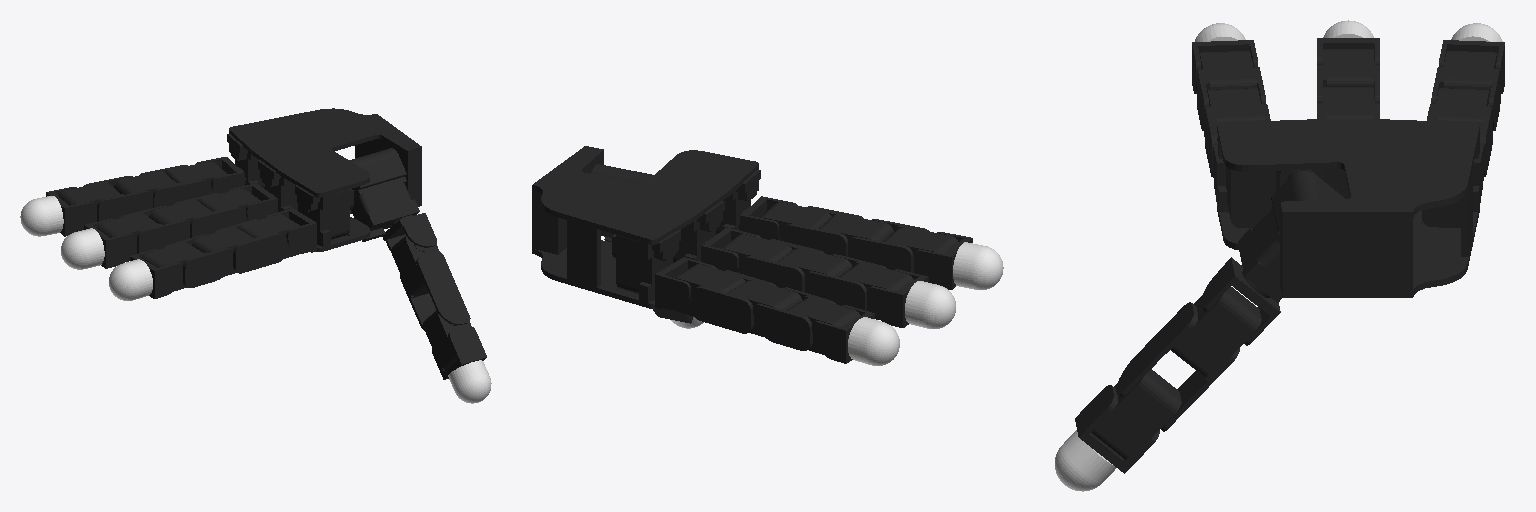
robot.urdf — pallegro:
<?xml version="1.0" encoding="utf-8" ?>
<robot name="pallegro">
	<!-- Panda link 0 -->
    <link name="panda_link0">
        <visual>
            <geometry>
                <mesh filename="franka/Franka_Link0_assy OBJ/Franka_Link0_assy.obj" />
				<!--<mesh filename="asset/panda/link0.stl" />-->
            </geometry>
        </visual>
        <inertial>
            <origin rpy="0 0 0" xyz="0 0 0" />
            <mass value="2.9411" />
			<inertia ixx="0.00315" ixy="0.0" ixz="0.0" iyy="0.00388" iyz="0.0" izz="0.004285" />
        </inertial>
    </link>
    <!-- Joint 1 from link 0 to 1 -->
    <joint name="panda_joint1" type="revolute">
        <origin rpy="0 0 0" xyz="0 0 0.333" />
        <parent link="panda_link0" />
        <child link="panda_link1" />
        <axis xyz="0 0 1" />
        <limit effort="87" lower="-2.8973" upper="2.8973" velocity="2.1750" />
        <dynamics damping="1.0" friction="10" />
    </joint>
    <!-- Panda link 1 -->
    <link name="panda_link1">
        <visual>
            <geometry>
                <mesh filename="franka/Franka_Link1_assy OBJ/Franka_Link1_assy.obj" />
				<!--<mesh filename="asset/panda/link1.stl" />-->
            </geometry>
        </visual>
        <inertial>
            <origin rpy="0 0 0" xyz="0.003875 0.002081 -0.04762" />
            <mass value="4.970684" />
			<inertia ixx="0.70337" ixy="0" ixz="0" iyy="0.70661" iyz="0" izz="0.0091170" />
        </inertial>
    </link>
    <!-- Joint 2 from link 1 to 2 -->
    <joint name="panda_joint2" type="revolute">
        <origin rpy="-1.57079632679 0 0" xyz="0 0 0" />
        <parent link="panda_link1" />
        <child link="panda_link2" />
        <axis xyz="0 0 1" />
        <limit effort="87" lower="-1.7628" upper="1.7628" velocity="2.1750" />
        <dynamics damping="1.0" />
    </joint>
    <!-- Panda link 2 -->
    <link name="panda_link2">
        <visual>
            <geometry>
                <mesh filename="franka/Franka_Link2_assy OBJ/Franka_Link2_assy.obj" />
				<!--<mesh filename="asset/panda/link2.stl" />-->
            </geometry>
        </visual>
        <inertial>
            <origin rpy="0 0 0" xyz="-0.003141 -0.02872 0.003495" />
            <mass value="0.646926" />
            <inertia ixx="0.0079620" ixy="0.0" ixz="0.0" iyy="0.02811" iyz="0.0" izz="0.025995" />
        </inertial>
    </link>
    <!-- Joint 3 from link 2 to 3 -->
    <joint name="panda_joint3" type="revolute">
        <origin rpy="1.57079632679 0 0" xyz="0 -0.316 0" />
        <parent link="panda_link2" />
        <child link="panda_link3" />
        <axis xyz="0 0 1" />
        <limit effort="87" lower="-2.8973" upper="2.8973" velocity="2.1750" />
        <dynamics damping="1.0" />
    </joint>
    <!-- Panda link 3 -->
    <link name="panda_link3">
        <visual>
            <geometry>
                <mesh filename="franka/Franka_Link3_assy OBJ/Franka_Link3_assy.obj" />
				<!--<mesh filename="asset/panda/link3.stl" />-->
			</geometry>
        </visual>
        <inertial>
            <origin rpy="0 0 0" xyz="2.7518e-2 3.9252e-2 -6.6502e-2" />
            <mass value="3.228604" />
			<inertia ixx="0.037242" ixy="0.0" ixz="0.0" iyy="0.036155" iyz="0.0" izz="0.01083" />
        </inertial>
    </link>
    <!-- Joint 4 from link 3 to 4 -->
    <joint name="panda_joint4" type="revolute">
        <origin rpy="1.57079632679 0 0" xyz="0.0825 0 0" />
        <parent link="panda_link3" />
        <child link="panda_link4" />
        <axis xyz="0 0 1" />
        <limit effort="87" lower="-3.0718" upper="-0.0698" velocity="2.1750" />
        <dynamics damping="1.0" />
    </joint>
    <!-- Panda link 4 -->
    <link name="panda_link4">
        <visual>
            <geometry>
                <mesh filename="franka/Franka_Link4_assy OBJ/Franka_Link4_assy.obj" />
				<!--<mesh filename="asset/panda/link4.stl" />-->
            </geometry>
        </visual>
        <inertial>
			<origin rpy="0 0 0" xyz="-5.317e-2 1.04419e-1 2.7454e-2" />
            <mass value="3.587895" />
            <inertia ixx="2.5853e-2" ixy="0.0" ixz="0.0" iyy="1.9552e-2" iyz="0.0" izz="8.627e-3" />
        </inertial>
    </link>
    <!-- Joint 5 from link 4 to 5 -->
    <joint name="panda_joint5" type="revolute">
        <origin rpy="-1.57079632679 0 0" xyz="-0.0825 0.384 0" />
        <parent link="panda_link4" />
        <child link="panda_link5" />
        <axis xyz="0 0 1" />
        <limit effort="12" lower="-2.8973" upper="2.8973" velocity="2.6100" />
        <dynamics damping="1.0" />
    </joint>
    <!-- Panda link 5 -->
    <link name="panda_link5">
        <visual>
            <geometry>
				<mesh filename="franka/Franka_Link5_assy OBJ/Franka_Link5_assy.obj" />
				<!--<mesh filename="asset/panda/link5.stl" />-->
            </geometry>
        </visual>
        <inertial>
            <origin rpy="0 0 0" xyz="-1.1953e-2 4.1065e-2 -3.8437e-2" />
            <mass value="1.225946" />
            <inertia ixx="3.5549e-2" ixy="0.0" ixz="0.0" iyy="2.9474e-2" iyz="0.0" izz="8.627e-3" />
        </inertial>
    </link>
    <!-- Joint 6 from link 5 to 6 -->
    <joint name="panda_joint6" type="revolute">
        <origin rpy="1.57079632679 0 0" xyz="0 0 0" />
        <parent link="panda_link5" />
        <child link="panda_link6" />
        <axis xyz="0 0 1" />
        <limit effort="12" lower="-0.0175" upper="3.7525" velocity="2.6100" />
        <dynamics damping="1.0" />
    </joint>
    <!-- Panda link 6 -->
    <link name="panda_link6">
        <visual>
            <geometry>
                <mesh filename="franka/Franka_Link6_assy OBJ/Franka_Link6_assy.obj" />
				<!--<mesh filename="asset/panda/link6.stl" />-->
            </geometry>
        </visual>
		<inertial>
			<origin rpy="0 0 0" xyz="6.0149e-2 -1.4117e-2 -1.0517e-2" />
			<mass value="1.666555" />
			<inertia ixx="1.964e-3" ixy="0.0" ixz="0.0" iyy="4.354e-3" iyz="0.0" izz="5.433e-3" />
		</inertial>
    </link>
    <!-- Joint 7 from link 6 to 7 -->
    <joint name="panda_joint7" type="revolute">
        <origin rpy="1.57079632679 0 0" xyz="0.088 0 0" />
        <parent link="panda_link6" />
        <child link="panda_link7" />
        <axis xyz="0 0 1" />
        <limit effort="12" lower="-2.8973" upper="2.8973" velocity="2.6100" />
        <dynamics damping="1.0" />
    </joint>
    <!-- Panda link 7 -->
    <link name="panda_link7">
        <visual>
			<origin rpy="0 0 0" xyz="0 0 0" />
            <geometry>
                <mesh filename="franka/Franka_Link7_assy OBJ/Franka_Link7_assy.obj" />
				<!--<mesh filename="asset/panda/link7.stl" />-->
				<!--<box size="0.08 0.08 0.08"/>-->
            </geometry>
        </visual>
        <inertial>
            <origin rpy="0 0 0" xyz="1.0517e-2 -4.252e-3 6.1597e-2" />
            <mass value="7.35522e-01" />
            <inertia ixx="1.2516e-2" ixy="0.0" ixz="0.0" iyy="1.0027e-2" iyz="0.0" izz="4.815e-3" />
        </inertial>
    </link>
	<!-- Fixed joint from link 7 to allegro palm -->
	<joint name="panda_joint7" type="fixed">
		<origin rpy="0 0 0" xyz="0 0 0.202" />
		<parent link="panda_link7" />
		<child link="allegro_palm" />
		<axis xyz="0 0 1" />
	</joint>
	<!--Allegro Palm-->
	<link name="allegro_palm">
		<visual>
			<origin rpy="0 0 0" xyz="0 0 0" />
			<geometry>
				<mesh filename="../allegro/base_link.obj" />
			</geometry>
			<material name="black">
				<color rgba="0.2 0.2 0.2 1"/>
			</material>
		</visual>
		<collision>
			<origin rpy="0 0 0" xyz="-0.009300 0 -0.0475"/>
			<geometry>
				<box size="0.0408 0.1130 0.095"/>
			</geometry>
		</collision>
		<inertial>
			<origin rpy="0 0 0" xyz="0 0 0"/>
			<mass value="0.4154"/>
			<inertia ixx="0.00208916" ixy="-3.63457e-06" ixz="0.000223277" iyy="0.00182848" iyz="-1.75634e-05" izz="0.000482459"/>
		</inertial>
	</link>
	<link name="allegro_link0">
		<visual>
			<geometry>
				<mesh filename="../allegro/link_0.0.obj"/>
			</geometry>
			<material name="black"/>
		</visual>
		<!--
		<collision>
			<geometry>
				<box size="0.0196 0.0275 0.0164"/>
			</geometry>
			<origin rpy="0 0 0" xyz="0 0 0.0082"/>
		</collision>
		-->
		<inertial>
			<mass value="0.0119"/>
			<origin rpy="0 0 0" xyz="0 0 0"/>
			<inertia ixx="1.95377e-06" ixy="3.03372e-09" ixz="8.92323e-08" iyy="1.17908e-06" iyz="-3.7069e-08" izz="1.49673e-06"/>
		</inertial>
	</link>
	<joint name="allegro_joint0" type="revolute">
		<axis xyz="0 0 1"/>
		<limit effort="0.7" lower="-0.47" upper="0.47" velocity="7"/>
		<parent link="allegro_palm"/>
		<child link="allegro_link0"/>
		<origin rpy="-0.08726646255 0 0" xyz="0 0.0435 -0.001542"/>
		<dynamics damping="1.5e-2" friction="10"/>
	</joint>
	<link name="allegro_link1">
		<visual>
			<geometry>
			<mesh filename="../allegro/link_1.0.obj"/>
			</geometry>
			<material name="black"/>
		</visual>
		<collision>
			<geometry>
			<box size="0.0196 0.0275 0.054"/>
			</geometry>
			<origin rpy="0 0 0" xyz="0 0 0.027"/>
		</collision>
		<inertial>
			<mass value="0.065"/>
			<origin rpy="0 0 0" xyz="0 0 0"/>
			<inertia ixx="7.19218e-05" ixy="0" ixz="0" iyy="7.4377e-05" iyz="7.32186e-07" izz="5.40622e-06"/>
		</inertial>
	</link>
	<joint name="allegro_joint1" type="revolute">
		<limit effort="0.7" lower="-0.196" upper="1.61" velocity="7"/>
		<axis xyz="0 1 0"/>
		<parent link="allegro_link0"/>
		<child link="allegro_link1"/>
		<origin xyz="0 0 0.0164"/>
		<dynamics damping="1.5e-2" friction="5"/>
	</joint>
	<link name="allegro_link2">
		<visual>
			<geometry>
				<mesh filename="../allegro/link_2.0.obj"/>
			</geometry>
			<material name="black"/>
		</visual>
		<collision>
			<geometry>
				<box size="0.0196 0.0275 0.0384"/>
			</geometry>
			<origin rpy="0 0 0" xyz="0 0 0.0192"/>
		</collision>
		<inertial>
			<mass value="0.0355"/>
			<origin rpy="0 0 0" xyz="0 0 0"/>
			<inertia ixx="3.16925e-05" ixy="1.07094e-09" ixz="-4.91273e-09" iyy="3.10516e-05" iyz="3.87549e-08" izz="3.20319e-06"/>
		</inertial>
	</link>
	<joint name="allegro_joint2" type="revolute">
		<axis xyz="0 1 0"/>
		<limit effort="0.7" lower="-0.174" upper="1.709" velocity="7"/>
		<parent link="allegro_link1"/>
		<child link="allegro_link2"/>
		<origin xyz="0 0 0.054"/>
		<dynamics damping="1.5e-2" friction="10"/>
	</joint>
	<link name="allegro_link3">
		<visual>
			<geometry>
				<mesh filename="../allegro/link_3.0.obj"/>
			</geometry>
			<material name="black"/>
		</visual>
		<collision>
			<geometry>
				<box size="0.0196 0.0275 0.0267"/>
			</geometry>
			<origin rpy="0 0 0" xyz="0 0 0.01335"/>
		</collision>
		<inertial>
			<mass value="0.0096"/>
			<origin rpy="0 0 0" xyz="0 0 0"/>
			<inertia ixx="2.13975e-06" ixy="1.59554e-09" ixz="-7.47528e-09" iyy="1.52036e-06" iyz="-9.89336e-09" izz="1.20271e-06"/>
		</inertial>
	</link>
	<joint name="allegro_joint3" type="revolute">
		<axis xyz="0 1 0"/>
		<limit effort="0.7" lower="-0.227" upper="1.618" velocity="7"/>
		<parent link="allegro_link2"/>
		<child link="allegro_link3"/>
		<origin xyz="0 0 0.0384"/>
		<dynamics damping="1.5e-2" friction="12"/>
	</joint>
	<link name="allegro_link3_tip">
		<visual>
			<geometry>
				<mesh filename="../allegro/link_3.0_tip.obj"/>
			</geometry>
			<material name="white">
				<color rgba=".9 .9 .9 1"/>
			</material>
		</visual>
		<collision>
			<geometry>
				<sphere radius="0.012"/>
			</geometry>
		</collision>
		<inertial>
			<mass value="0.0168"/>
			<origin rpy="0 0 0" xyz="0 0 0"/>
			<inertia ixx="1.19599e-05" ixy="0" ixz="0" iyy="1.19598e-05" iyz="0" izz="1.10345e-06"/>
		</inertial>
	</link>
	<joint name="allegro_joint3_tip" type="fixed">
		<parent link="allegro_link3"/>
		<child link="allegro_link3_tip"/>
		<origin rpy="0 0 0" xyz="0 0 0.0267"/>
	</joint>
	<link name="allegro_link4">
		<visual>
			<geometry>
				<mesh filename="../allegro/link_0.0.obj"/>
			</geometry>
			<material name="black"/>
		</visual>
		<!--
		<collision>
			<geometry>
				<box size="0.0196 0.0275 0.0164"/>
			</geometry>
			<origin rpy="0 0 0" xyz="0 0 0.0082"/> 
		</collision>
		-->
		<inertial>
			<mass value="0.0119"/>
			<origin rpy="0 0 0" xyz="0 0 0"/>
			<inertia ixx="1.95377e-06" ixy="3.03372e-09" ixz="8.92323e-08" iyy="1.17908e-06" iyz="-3.7069e-08" izz="1.49673e-06"/>
		</inertial>
	</link>
	<joint name="allegro_joint4" type="revolute">
		<axis xyz="0 0 1"/>
		<limit effort="0.7" lower="-0.47" upper="0.47" velocity="7"/>
		<parent link="allegro_palm"/>
		<child link="allegro_link4"/>
		<origin rpy="0.0 0 0" xyz="0 0 0.0007"/>
		<dynamics damping="1.5e-2" friction="10"/>
	</joint>
	<link name="allegro_link5">
		<visual>
			<geometry>
			<mesh filename="../allegro/link_1.0.obj"/>
			</geometry>
			<material name="black"/>
		</visual>
		<collision>
			<geometry>
			<box size="0.0196 0.0275 0.054"/>
			</geometry>
			<origin rpy="0 0 0" xyz="0 0 0.027"/>
		</collision>
		<inertial>
			<mass value="0.065"/>
			<origin rpy="0 0 0" xyz="0 0 0"/>
			<inertia ixx="7.19218e-05" ixy="0" ixz="0" iyy="7.4377e-05" iyz="7.32186e-07" izz="5.40622e-06"/>
		</inertial>
	</link>
	<joint name="allegro_joint5" type="revolute">
		<limit effort="0.7" lower="-0.196" upper="1.61" velocity="7"/>
		<axis xyz="0 1 0"/>
		<parent link="allegro_link4"/>
		<child link="allegro_link5"/>
		<origin xyz="0 0 0.0164"/>
		<dynamics damping="1.5e-2" friction="5"/>
	</joint>
	<link name="allegro_link6">
		<visual>
			<geometry>
				<mesh filename="../allegro/link_2.0.obj"/>
			</geometry>
			<material name="black"/>
		</visual>
		<collision>
			<geometry>
			<box size="0.0196 0.0275 0.0384"/>
				</geometry>
			<origin rpy="0 0 0" xyz="0 0 0.0192"/>
		</collision>
		<inertial>
			<mass value="0.0355"/>
			<origin rpy="0 0 0" xyz="0 0 0"/>
			<inertia ixx="3.16925e-05" ixy="1.07094e-09" ixz="-4.91273e-09" iyy="3.10516e-05" iyz="3.87549e-08" izz="3.20319e-06"/>
		</inertial>
	</link>
	<joint name="allegro_joint6" type="revolute">
		<axis xyz="0 1 0"/>
		<limit effort="0.7" lower="-0.174" upper="1.709" velocity="7"/>
		<parent link="allegro_link5"/>
		<child link="allegro_link6"/>
		<origin xyz="0 0 0.054"/>
		<dynamics damping="1.5e-2" friction="10"/>
	</joint>
	<link name="allegro_link7">
		<visual>
			<geometry>
			<mesh filename="../allegro/link_3.0.obj"/>
			</geometry>
			<material name="black"/>
		</visual>
		<collision>
			<geometry>
			<box size="0.0196 0.0275 0.0267"/>
			</geometry>
			<origin rpy="0 0 0" xyz="0 0 0.01335"/>
		</collision>
		<inertial>
			<mass value="0.0096"/>
			<origin rpy="0 0 0" xyz="0 0 0"/>
			<inertia ixx="2.13975e-06" ixy="1.59554e-09" ixz="-7.47528e-09" iyy="1.52036e-06" iyz="-9.89336e-09" izz="1.20271e-06"/>
		</inertial>
	</link>
	<joint name="allegro_joint7" type="revolute">
		<axis xyz="0 1 0"/>
		<limit effort="0.7" lower="-0.227" upper="1.618" velocity="7"/>
		<parent link="allegro_link6"/>
		<child link="allegro_link7"/>
		<origin xyz="0 0 0.0384"/>
		<dynamics damping="1.5e-2" friction="12"/>
	</joint>
	<link name="allegro_link7_tip">
		<visual>
			<geometry>
				<mesh filename="../allegro/link_3.0_tip.obj"/>
			</geometry>
			<material name="white">
				<color rgba=".9 .9 .9 1"/>
			</material>
		</visual>
		<collision>
			<geometry>
				<sphere radius="0.012"/>
			</geometry>
		</collision>
		<inertial>
			<mass value="0.0168"/>
			<origin rpy="0 0 0" xyz="0 0 0"/>
			<inertia ixx="1.19599e-05" ixy="0" ixz="0" iyy="1.19598e-05" iyz="0" izz="1.10345e-06"/>
		</inertial>
	</link>
	<joint name="allegro_joint7_tip" type="fixed">
		<parent link="allegro_link7"/>
		<child link="allegro_link7_tip"/>
		<origin rpy="0 0 0" xyz="0 0 0.0267"/>
	</joint>
	<link name="allegro_link8">
		<visual>
			<geometry>
				<mesh filename="../allegro/link_0.0.obj"/>
			</geometry>
			<material name="black"/>
		</visual>
		<!--
		<collision>
			<geometry>
				<box size="0.0196 0.0275 0.0164"/>
			</geometry>
			<origin rpy="0 0 0" xyz="0 0 0.0082"/>
		</collision>
		-->
		<inertial>
			<mass value="0.0119"/>
			<origin rpy="0 0 0" xyz="0 0 0"/>
			<inertia ixx="1.95377e-06" ixy="3.03372e-09" ixz="8.92323e-08" iyy="1.17908e-06" iyz="-3.7069e-08" izz="1.49673e-06"/>
		</inertial>
	</link>
	<joint name="allegro_joint8" type="revolute">
		<axis xyz="0 0 1"/>
		<limit effort="0.7" lower="-0.47" upper="0.47" velocity="7"/>
		<parent link="allegro_palm"/>
		<child link="allegro_link8"/>
		<origin rpy="0.08726646255 0 0" xyz="0 -0.0435 -0.001542"/>
		<dynamics damping="1.5e-2" friction="10"/>
	</joint>
	<link name="allegro_link9">
		<visual>
			<geometry>
				<mesh filename="../allegro/link_1.0.obj"/>
			</geometry>
			<material name="black"/>
		</visual>
		<collision>
			<geometry>
				<box size="0.0196 0.0275 0.054"/>
			</geometry>
			<origin rpy="0 0 0" xyz="0 0 0.027"/>
		</collision>
		<inertial>
			<mass value="0.065"/>
			<origin rpy="0 0 0" xyz="0 0 0"/>
			<inertia ixx="7.19218e-05" ixy="0" ixz="0" iyy="7.4377e-05" iyz="7.32186e-07" izz="5.40622e-06"/>
		</inertial>
	</link>
	<joint name="allegro_joint9" type="revolute">
		<limit effort="0.7" lower="-0.196" upper="1.61" velocity="7"/>
		<axis xyz="0 1 0"/>
		<parent link="allegro_link8"/>
		<child link="allegro_link9"/>
		<origin xyz="0 0 0.0164"/>
		<dynamics damping="1.5e-2" friction="5"/>
	</joint>
	<link name="allegro_link10">
		<visual>
			<geometry>
				<mesh filename="../allegro/link_2.0.obj"/>
			</geometry>
			<material name="black"/>
		</visual>
		<collision>
			<geometry>
				<box size="0.0196 0.0275 0.0384"/>
			</geometry>
			<origin rpy="0 0 0" xyz="0 0 0.0192"/>
		</collision>
		<inertial>
			<mass value="0.0355"/>
			<origin rpy="0 0 0" xyz="0 0 0"/>
			<inertia ixx="3.16925e-05" ixy="1.07094e-09" ixz="-4.91273e-09" iyy="3.10516e-05" iyz="3.87549e-08" izz="3.20319e-06"/>
		</inertial>
	</link>
	<joint name="allegro_joint10" type="revolute">
		<axis xyz="0 1 0"/>
		<limit effort="0.7" lower="-0.174" upper="1.709" velocity="7"/>
		<parent link="allegro_link9"/>
		<child link="allegro_link10"/>
		<origin xyz="0 0 0.054"/>
		<dynamics damping="1.5e-2" friction="10"/>
	</joint>
	<link name="allegro_link11">
		<visual>
			<geometry>
			<mesh filename="../allegro/link_3.0.obj"/>
			</geometry>
			<material name="black"/>
		</visual>
		<collision>
			<geometry>
			<box size="0.0196 0.0275 0.0267"/>
			</geometry>
			<origin rpy="0 0 0" xyz="0 0 0.01335"/>
		</collision>
		<inertial>
			<mass value="0.0096"/>
			<origin rpy="0 0 0" xyz="0 0 0"/>
			<inertia ixx="2.13975e-06" ixy="1.59554e-09" ixz="-7.47528e-09" iyy="1.52036e-06" iyz="-9.89336e-09" izz="1.20271e-06"/>
		</inertial>
	</link>
	<joint name="allegro_joint11" type="revolute">
		<axis xyz="0 1 0"/>
		<limit effort="0.7" lower="-0.227" upper="1.618" velocity="7"/>
		<parent link="allegro_link10"/>
		<child link="allegro_link11"/>
		<origin xyz="0 0 0.0384"/>
		<dynamics damping="1.5e-2" friction="12"/>
	</joint>
	<link name="allegro_link11_tip">
		<visual>
			<geometry>
			<mesh filename="../allegro/link_3.0_tip.obj"/>
			</geometry>
			<material name="white">
			<color rgba=".9 .9 .9 1"/>
			</material>
		</visual>
		<collision>
			<geometry>
				<sphere radius="0.012"/>
			</geometry>
		</collision>
		<inertial>
			<mass value="0.0168"/>
			<origin rpy="0 0 0" xyz="0 0 0"/>
			<inertia ixx="1.19599e-05" ixy="0" ixz="0" iyy="1.19598e-05" iyz="0" izz="1.10345e-06"/>
		</inertial>
	</link>
	<joint name="allegro_joint11_tip" type="fixed">
		<parent link="allegro_link11"/>
		<child link="allegro_link11_tip"/>
		<origin rpy="0 0 0" xyz="0 0 0.0267"/>
	</joint>
	<link name="allegro_link12">
		<visual>
			<geometry>
			<mesh filename="../allegro/link_12.0_right.obj"/>
			</geometry>
			<material name="black">
			<color rgba=".2 .2 .2 1"/>
			</material>
			<origin rpy="0 0 0" xyz="0 0 0"/>
		</visual>
		<!--
		<collision>
			<geometry>
			<box size="0.0358 0.034 0.0455"/>
			</geometry>
			<origin rpy="0 0 0" xyz="-0.0179 0.009 0.0145"/>
		</collision>
		-->
		<inertial>
			<mass value="0.0176"/>
			<origin rpy="0 0 0" xyz="0 0 0"/>
			<inertia ixx="8.13883e-06" ixy="2.55226e-06" ixz="3.89933e-06" iyy="1.31421e-05" iyz="-1.46267e-06" izz="1.00171e-05"/>
		</inertial>
	</link>
	<joint name="allegro_joint12" type="revolute">
		<axis xyz="-1 0 0"/>
		<limit effort="0.7" lower="0.263" upper="1.396" velocity="7"/>
		<parent link="allegro_palm"/>
		<child link="allegro_link12"/>
		<origin rpy="0 -1.65806278845 -1.5707963259" xyz="-0.0182 0.019333 -0.045987"/>
		<dynamics damping="1.5e-2" friction="10"/>
	</joint>
	<link name="allegro_link13">
		<visual>
			<geometry>
				<mesh filename="../allegro/link_13.0.obj"/>
			</geometry>
			<material name="black">
				<color rgba=".2 .2 .2 1"/>
			</material>
		</visual>
		<!--
		<collision>
			<geometry>
				<box size="0.0196 0.0275 0.0177"/>
			</geometry>
			<origin rpy="0 0 0" xyz="0 0 0.00885"/>
		</collision>
		-->
		<inertial>
			<mass value="0.0119"/>
			<origin rpy="0 0 0" xyz="0 0 0"/>
			<inertia ixx="1.9263e-06" ixy="3.05433e-09" ixz="8.86582e-08" iyy="1.15276e-06" iyz="-3.64521e-08" izz="1.4957e-06"/>
		</inertial>
	</link>
	<joint name="allegro_joint13" type="revolute">
		<axis xyz="0 0 1"/>
		<limit effort="0.7" lower="-0.105" upper="1.163" velocity="7"/>
		<parent link="allegro_link12"/>
		<child link="allegro_link13"/>
		<origin xyz="-0.027 0.005 0.0399"/>
		<dynamics damping="1.5e-2" friction="5"/>
	</joint>
	<link name="allegro_link14">
		<visual>
			<geometry>
				<mesh filename="../allegro/link_14.0.obj"/>
			</geometry>
			<material name="black">
			</material>
		</visual>
		<collision>
			<geometry>
				<box size="0.0196 0.0275 0.0514"/>
			</geometry>
			<origin rpy="0 0 0" xyz="0 0 0.0257"/>
		</collision>
		<inertial>
			<mass value="0.038"/>
			<origin rpy="0 0 0" xyz="0 0 0"/>
			<inertia ixx="3.67044e-05" ixy="1.02277e-09" ixz="1.4854e-07" iyy="3.54042e-05" iyz="-3.67203e-08" izz="3.63275e-06"/>
		</inertial>
	</link>
	<joint name="allegro_joint14" type="revolute">
		<axis xyz="0 1 0"/>
		<limit effort="0.7" lower="-0.189" upper="1.644" velocity="7"/>
		<parent link="allegro_link13"/>
		<child link="allegro_link14"/>
		<origin xyz="0 0 0.0177"/>
		<dynamics damping="1.5e-2" friction="10"/>
	</joint>
	<link name="allegro_link15">
		<visual>
			<geometry>
				<mesh filename="../allegro/link_15.0.obj"/>
			</geometry>
			<material name="black">
			</material>
		</visual>
		<collision>
			<geometry>
				<box size="0.0196 0.0275 0.0423"/>
			</geometry>
			<origin rpy="0 0 0" xyz="0 0 0.02115"/>
		</collision>
		<inertial>
			<mass value="0.0388"/>
			<origin rpy="0 0 0" xyz="0 0 0"/>
			<inertia ixx="4.30919e-05" ixy="0" ixz="0" iyy="3.85425e-05" iyz="-3.0146e-08" izz="1.72974e-05"/>
		</inertial>
	</link>
	<joint name="allegro_joint15" type="revolute">
		<axis xyz="0 1 0"/>
		<limit effort="0.7" lower="-0.162" upper="1.719" velocity="7"/>
		<parent link="allegro_link14"/>
		<child link="allegro_link15"/>
		<origin xyz="0 0 0.0514"/>
		<dynamics damping="1.5e-2" friction="12"/>
	</joint>
	<link name="allegro_link15_tip">
		<visual>
			<geometry>
				<mesh filename="../allegro/link_15.0_tip.obj"/>
			</geometry>
			<material name="white">
				<color rgba=".9 .9 .9 1"/>
			</material>
		</visual>
		<collision>
			<geometry>
				<sphere radius="0.012"/>
			</geometry>
			<origin rpy="0 0 0" xyz="0 0 0"/>
		</collision>
		<inertial>
			<mass value="0.0168"/>
			<origin rpy="0 0 0" xyz="0 0 0"/>
			<inertia ixx="1.19599e-05" ixy="0" ixz="0" iyy="1.19598e-05" iyz="0" izz="1.10345e-06"/>
		</inertial>
	</link>
	<joint name="allegro_joint15_tip" type="fixed">
		<parent link="allegro_link15"/>
		<child link="allegro_link15_tip"/>
		<origin rpy="0 0 0" xyz="0 0 0.0423"/>
	</joint>
</robot>

--- Facts derived from the render (not from the file) ---
Views: 3 orthographic renders of the robot side by side, from view 1: azimuth 30°, elevation 25°; view 2: azimuth 150°, elevation 25°; view 3: azimuth 270°, elevation 25°.
Robot: pallegro — 29 links, 28 joints (23 revolute, 5 fixed); root link panda_link0; default pose: joints at zero except 2 at the middle of their limits (panda_joint4 = -1.57, allegro_joint12 = 0.8295).
Links seen in each view (by area): view 1: allegro_palm, allegro_link14, allegro_link12, allegro_link1, allegro_link5, allegro_link9, allegro_link2, allegro_link15, allegro_link6, allegro_link10, allegro_link3_tip, allegro_link7_tip (+9 smaller); view 2: allegro_palm, allegro_link9, allegro_link5, allegro_link1, allegro_link10, allegro_link6, allegro_link2, allegro_link11_tip, allegro_link7_tip, allegro_link3_tip, allegro_link8, allegro_link7 (+5 smaller); view 3: allegro_palm, allegro_link14, allegro_link15, allegro_link12, allegro_link10, allegro_link2, allegro_link6, allegro_link9, allegro_link1, allegro_link15_tip, allegro_link13, allegro_link5 (+6 smaller).
Boxes of the visible links, x1=… form: allegro_palm: x1=227, y1=108, x2=421, y2=251; allegro_link14: x1=391, y1=236, x2=470, y2=330; allegro_link12: x1=349, y1=148, x2=419, y2=241; allegro_link1: x1=192, y1=214, x2=299, y2=276; allegro_link5: x1=149, y1=189, x2=260, y2=238; allegro_link9: x1=114, y1=162, x2=227, y2=208; allegro_link2: x1=142, y1=234, x2=232, y2=291; allegro_link15: x1=423, y1=310, x2=486, y2=379; allegro_link6: x1=97, y1=206, x2=188, y2=261; allegro_link10: x1=59, y1=176, x2=151, y2=222; allegro_link3_tip: x1=109, y1=259, x2=152, y2=300; allegro_link7_tip: x1=61, y1=228, x2=104, y2=269; allegro_palm: x1=532, y1=146, x2=760, y2=308; allegro_link9: x1=675, y1=264, x2=802, y2=336; allegro_link5: x1=721, y1=234, x2=851, y2=292; allegro_link1: x1=760, y1=202, x2=893, y2=257; allegro_link10: x1=753, y1=287, x2=860, y2=354; allegro_link6: x1=805, y1=254, x2=913, y2=319; allegro_link2: x1=849, y1=219, x2=958, y2=273; allegro_link11_tip: x1=848, y1=317, x2=899, y2=365; allegro_link7_tip: x1=905, y1=281, x2=955, y2=328; allegro_link3_tip: x1=953, y1=242, x2=1003, y2=289; allegro_link8: x1=655, y1=257, x2=716, y2=309; allegro_link7: x1=868, y1=269, x2=928, y2=327; allegro_palm: x1=1217, y1=119, x2=1479, y2=297; allegro_link14: x1=1116, y1=287, x2=1261, y2=431; allegro_link15: x1=1075, y1=369, x2=1181, y2=473; allegro_link12: x1=1238, y1=170, x2=1344, y2=302; allegro_link10: x1=1431, y1=51, x2=1500, y2=130; allegro_link2: x1=1197, y1=51, x2=1265, y2=130; allegro_link6: x1=1317, y1=49, x2=1379, y2=102; allegro_link9: x1=1427, y1=88, x2=1492, y2=176; allegro_link1: x1=1204, y1=88, x2=1270, y2=176; allegro_link15_tip: x1=1055, y1=430, x2=1115, y2=491; allegro_link13: x1=1200, y1=257, x2=1280, y2=345; allegro_link5: x1=1317, y1=87, x2=1379, y2=118.
Bounding box of the posed robot: 0.2432 × 0.1948 × 0.1383 m (x, y, z).
Meshes: 19 distinct files referenced, 21 mesh visuals loaded (11 OBJ); not drawn: 8 (reference not matched to a file when rendering).
